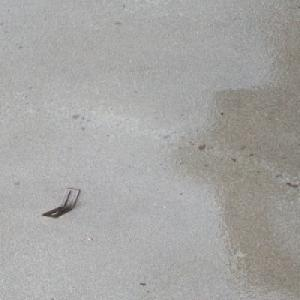MetalPart: (40, 187, 81, 218)
